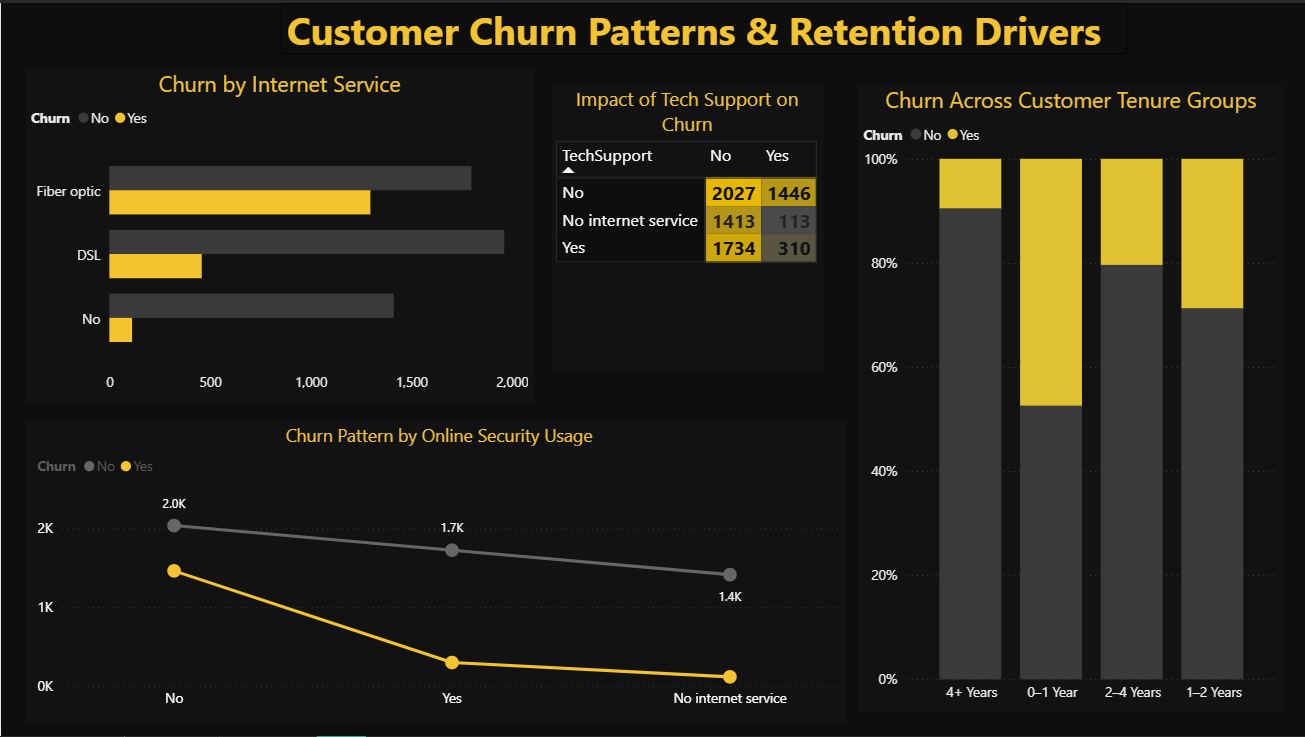

This screenshot's page, from the dashboard's own definition file:
{"tool":"powerbi","page":{"name":"Page 5","canvas":[1280,720],"ordinal":1},"visuals":[{"type":"lineChart","title":"Churn Pattern by Online Security Usage","fields":{"Category":["customer_churn.OnlineSecurity"],"Y":["CountNonNull(customer_churn.customerID)"],"Series":["customer_churn.Churn"]},"box":[24.5,409.8,804.9,295.7],"z":0},{"type":"clusteredBarChart","title":"Churn by Internet Service","fields":{"Category":["customer_churn.InternetService"],"Y":["CountNonNull(customer_churn.customerID)"],"Series":["customer_churn.Churn"]},"box":[24.5,63.8,498.2,327.6],"z":1000},{"type":"pivotTable","title":"Impact of Tech Support on Churn","fields":{"Rows":["customer_churn.TechSupport"],"Columns":["customer_churn.Churn"],"Values":["CountNonNull(customer_churn.customerID)"]},"box":[539.9,81,267.5,279.8],"z":2000},{"type":"hundredPercentStackedColumnChart","title":"Churn Across Customer Tenure Groups","fields":{"Series":["customer_churn.Churn"],"Category":["customer_churn.Tenure Group"],"Y":["CountNonNull(customer_churn.customerID)"]},"box":[841.7,79.8,417.2,616],"z":3000},{"type":"textbox","title":"Customer Churn Patterns & Retention Drivers","box":[274.8,0,830.7,50.3],"z":4000}]}

Visuals, with their boxes in screenshot pixels (x1, y1, x2, y2), scaled from the page's 1280x720 canvas onto the 1305x737 screenshot:
"Churn Pattern by Online Security Usage" lineChart: x1=25, y1=419, x2=846, y2=722
"Churn by Internet Service" clusteredBarChart: x1=25, y1=65, x2=533, y2=401
"Impact of Tech Support on Churn" pivotTable: x1=550, y1=83, x2=823, y2=369
"Churn Across Customer Tenure Groups" hundredPercentStackedColumnChart: x1=858, y1=82, x2=1283, y2=712
"Customer Churn Patterns & Retention Drivers" textbox: x1=280, y1=0, x2=1127, y2=51
